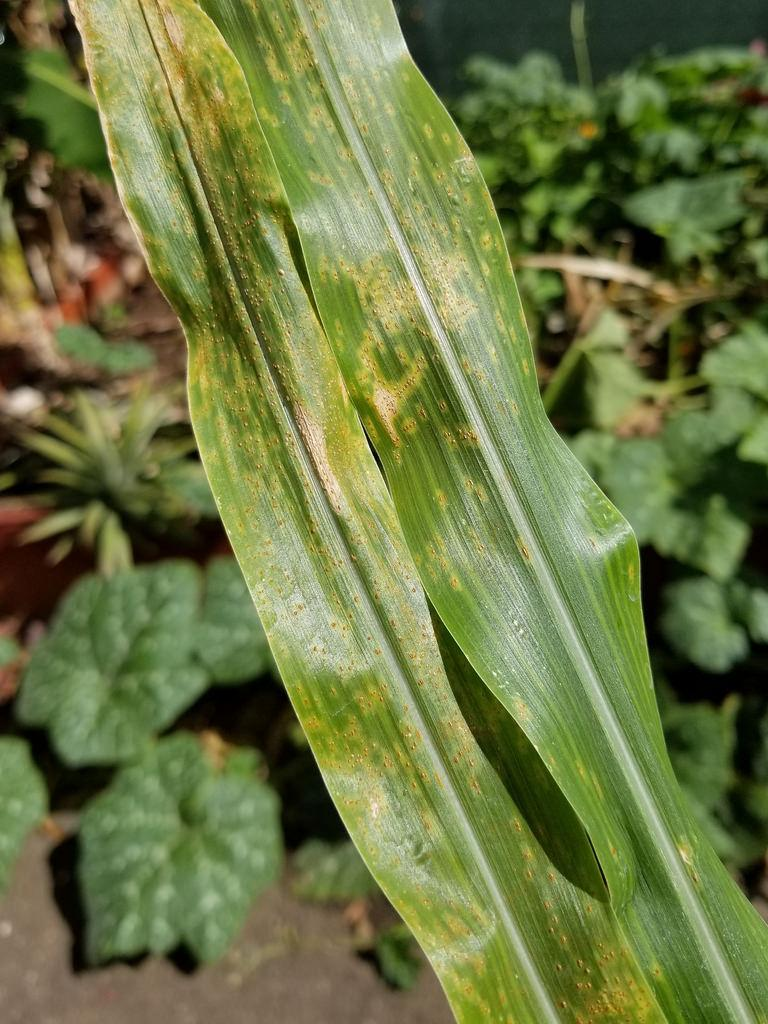Corn rust leaf: (64, 1, 768, 1024)
